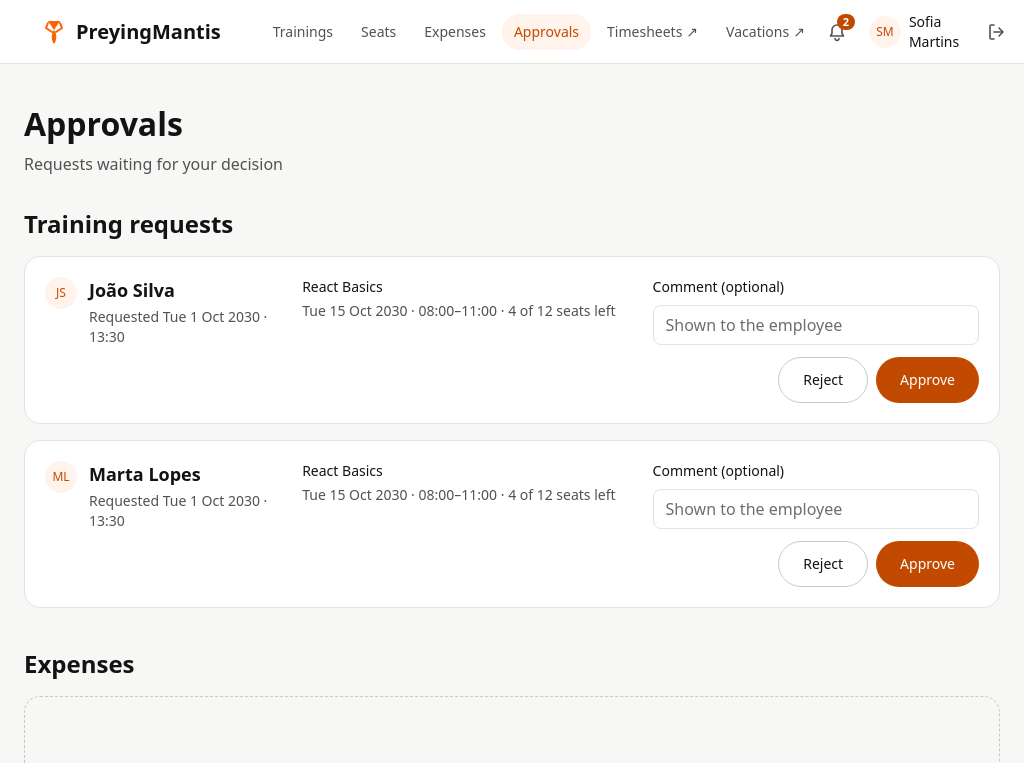
Test: approvals › sends the comment with an approval, and the row disappears without a reload
This screenshot has width=1024, height=763.
In the 1st field labelled "Comment (optional)": (816,325) [653,305,979,345], type "Enjoy!"
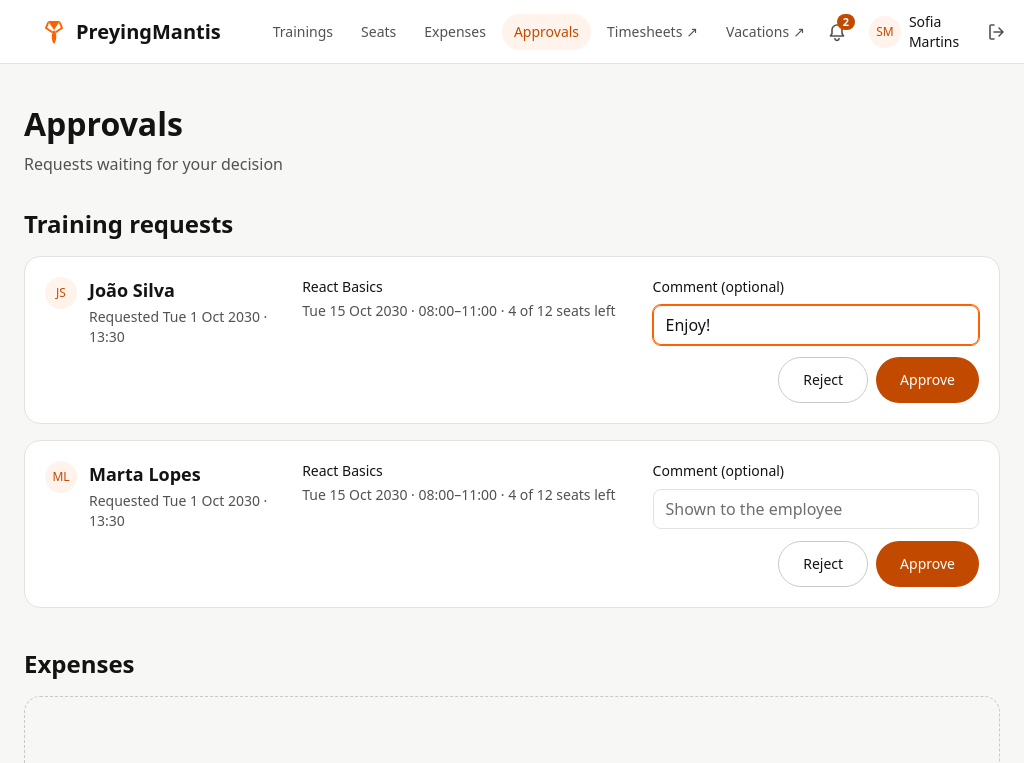
Click the 1st button "Approve": (928,380) [876,357,979,403]
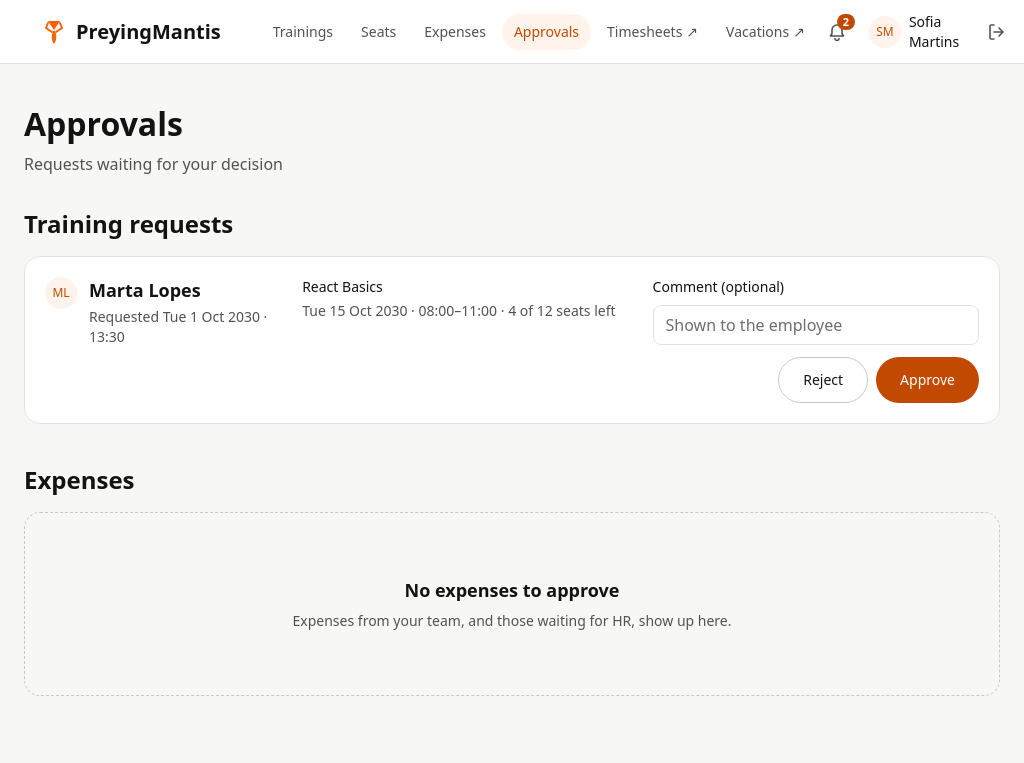
Expected: the element "Marta Lopes" is shown, [24,256,1000,424]
Expected: the heading "João Silva" is gone
